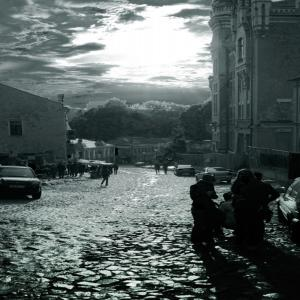Vehicle-registration-plate: (10, 185, 26, 191), (216, 174, 230, 178), (182, 170, 191, 174)
